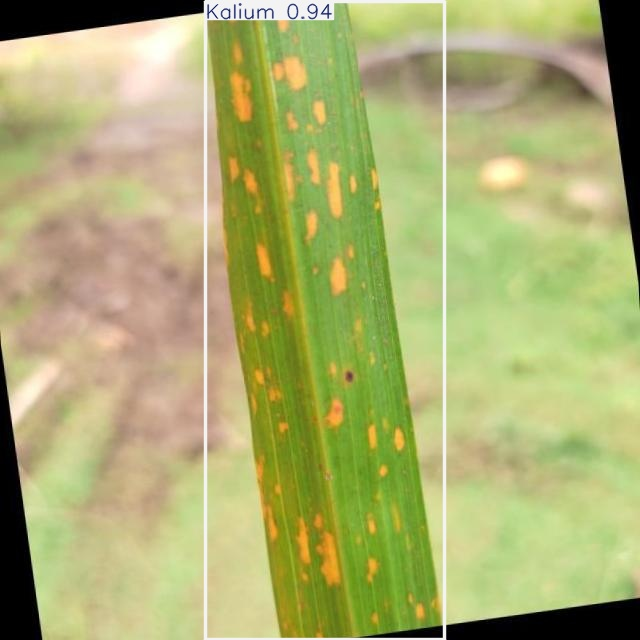Kalium: (206, 1, 445, 639)
